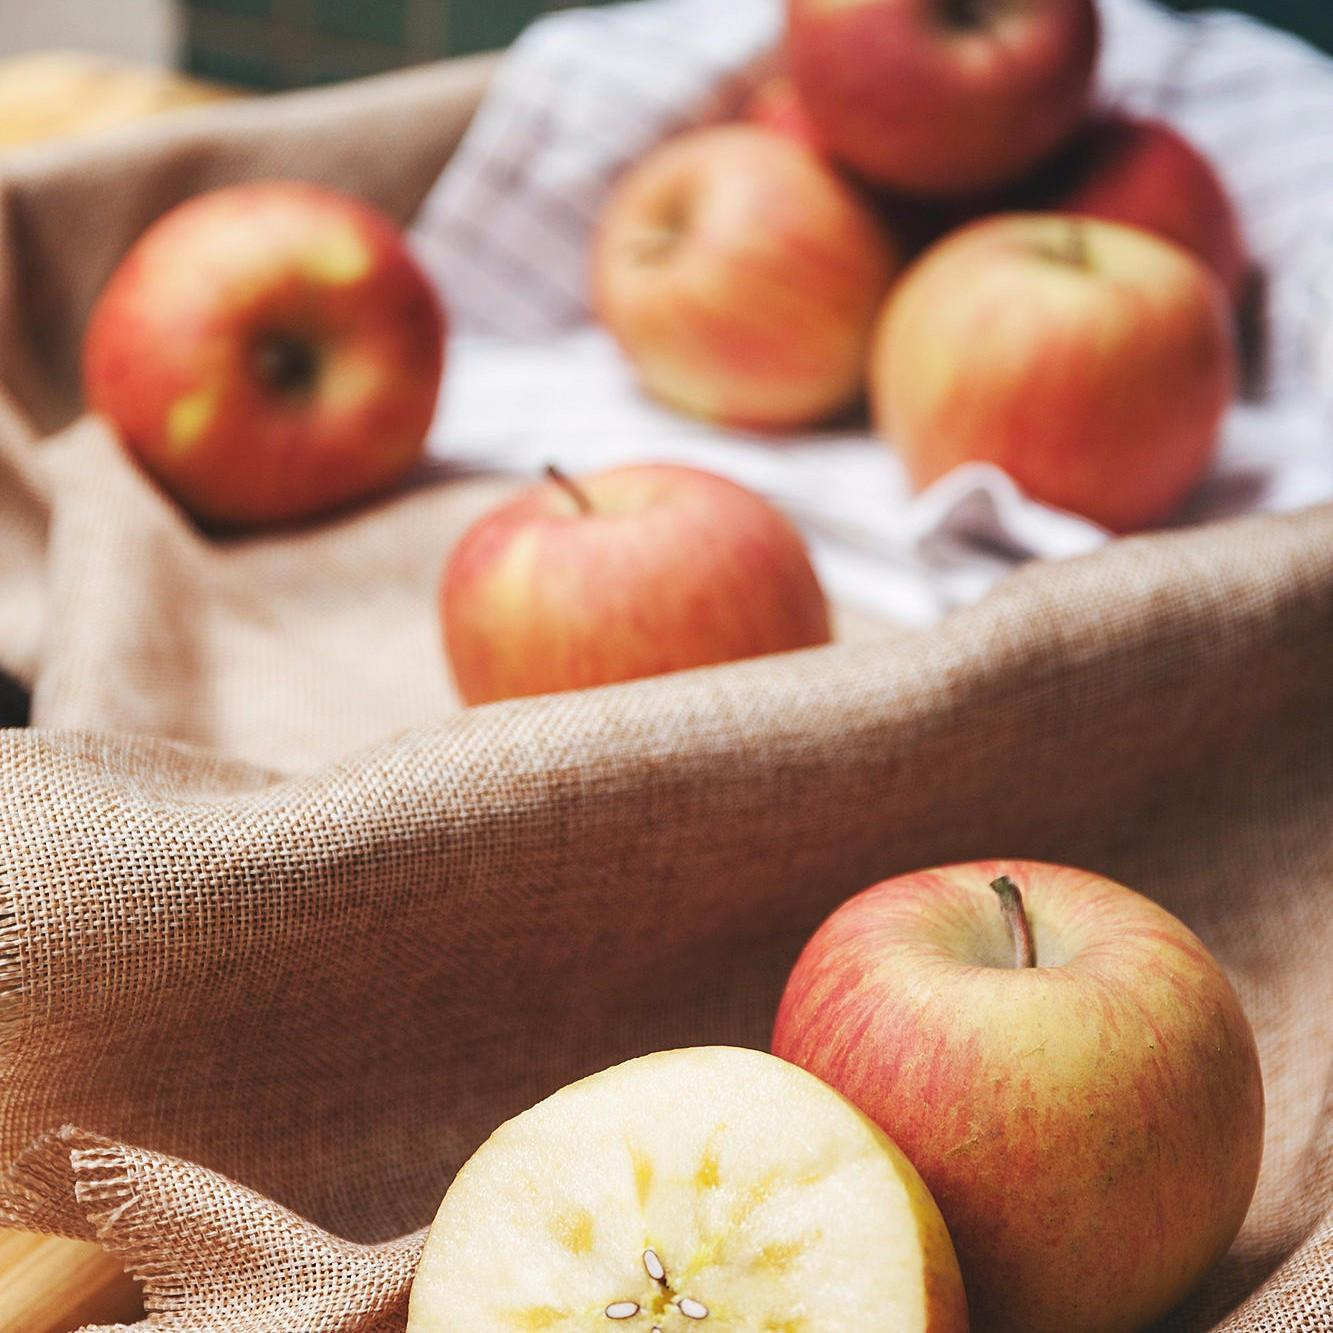apple: (771, 854, 1270, 1320)
